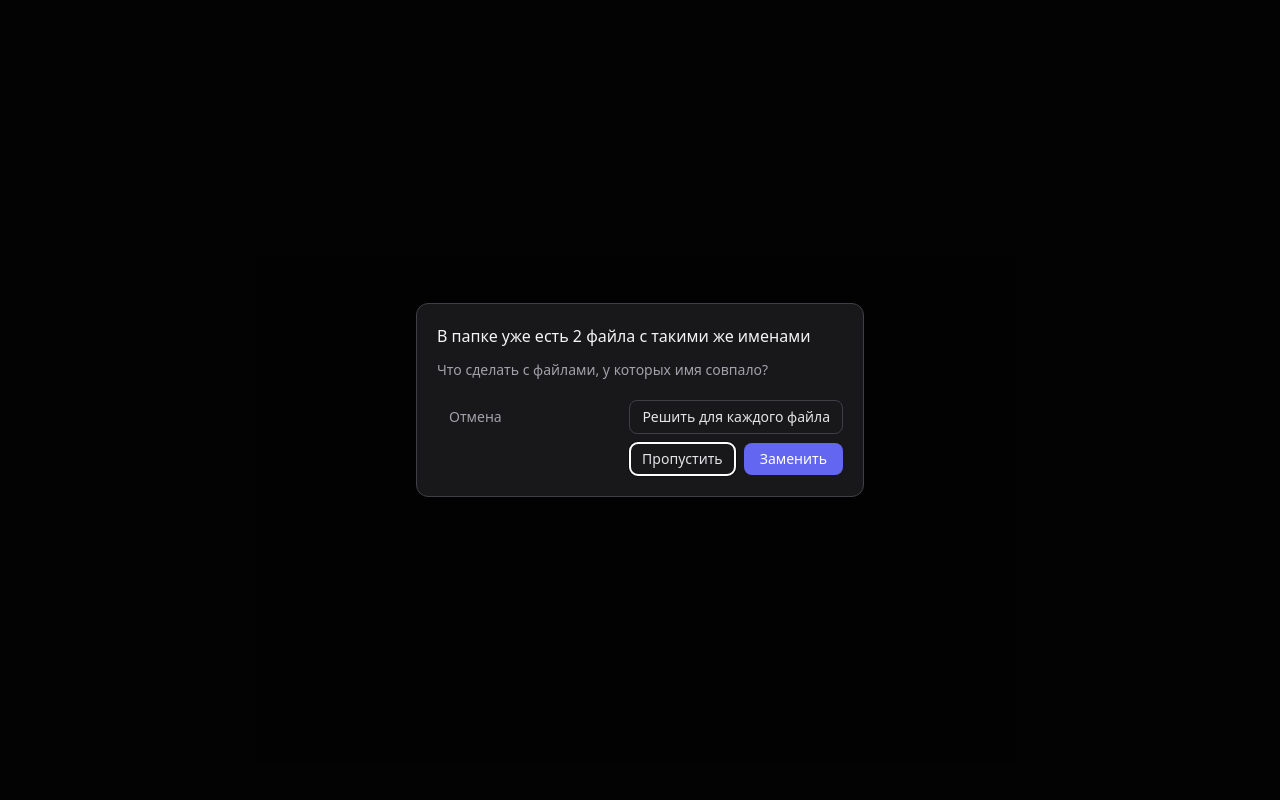
ConflictDialog › решение для каждого файла › у каждого файла две галочки с размером и датой обеих сторон
Click the button "Решить для каждого файла": x=736, y=417 [629, 400, 843, 434]
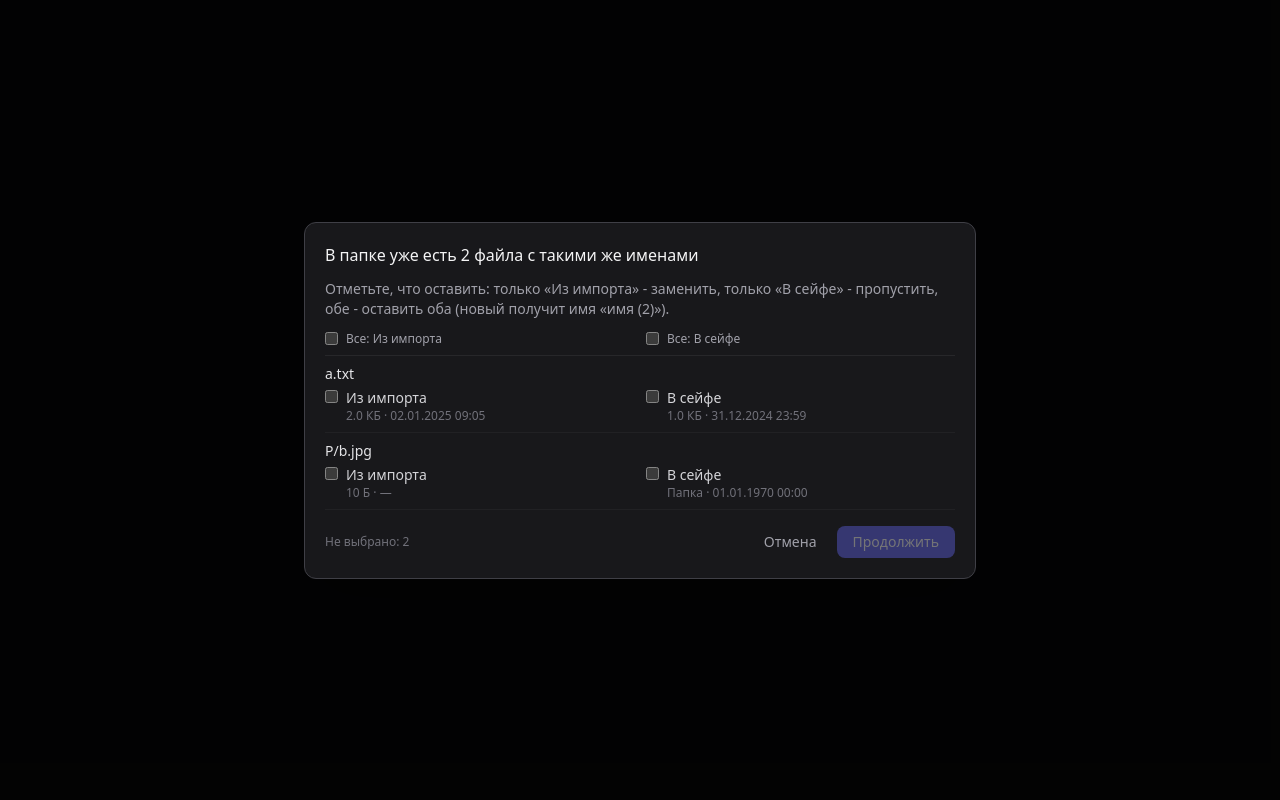
Result: the text "Из импорта" below "a.txt" is shown at [346, 388, 427, 406]
Result: the 1st text "В сейфе" is shown at [667, 388, 721, 406]
Result: the text "2.0 КБ · 02.01.2025 09:05" is shown at [346, 408, 486, 424]
